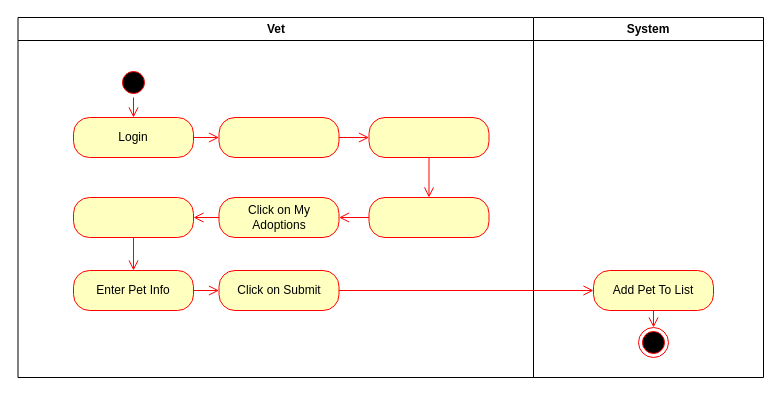
Some shapes in this 781 by 395 pixel diagram are drawn without their labels. Each missing label, with the centre of its shape:
Click Menu: point 428,137
Click on Add Pet: point 133,217
Click on Adoption: point 428,217
See Dashboard: point 278,137
